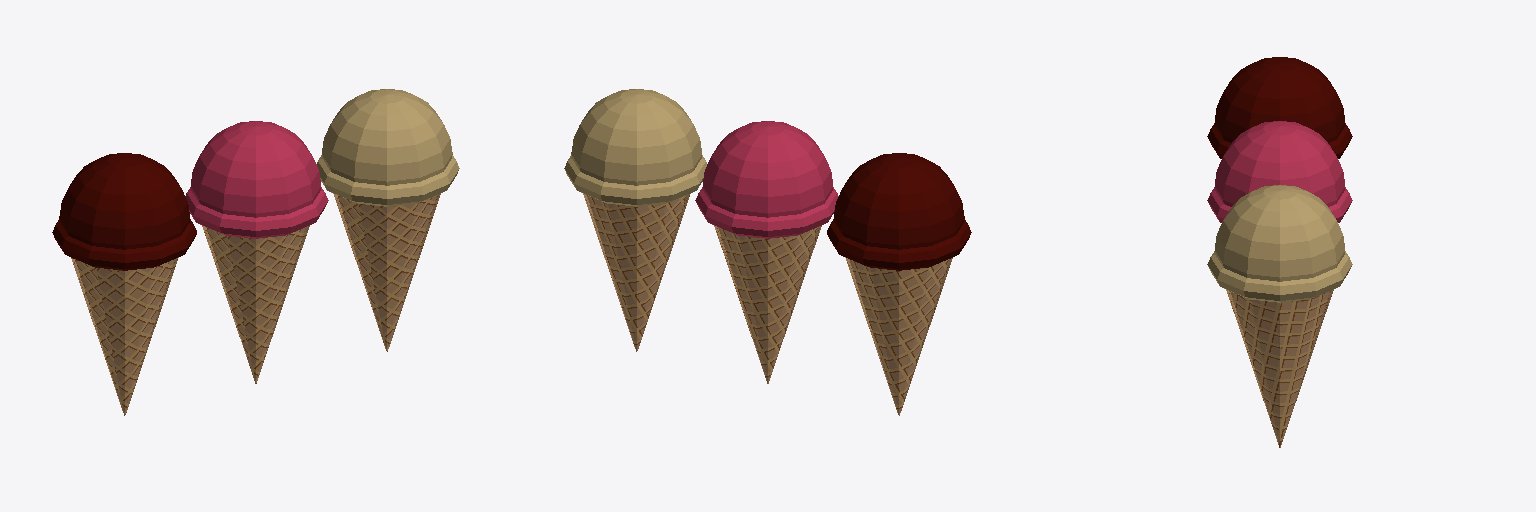
3 renders of one model, left to right at view 1: azimuth 30°, elevation 25°; view 2: azimuth 150°, elevation 25°; view 3: azimuth 270°, elevation 25°, orthographic.
Bounding box in the file's own units: 4.54 × 2.89 × 1.47.
4 materials, 1 textured.